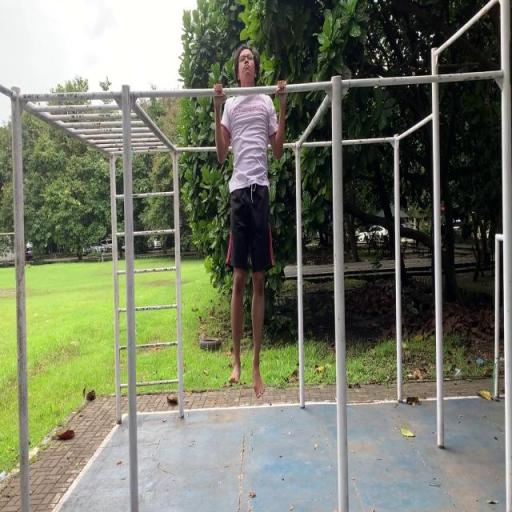Normal_BrenchPress: (213, 45, 288, 399)
